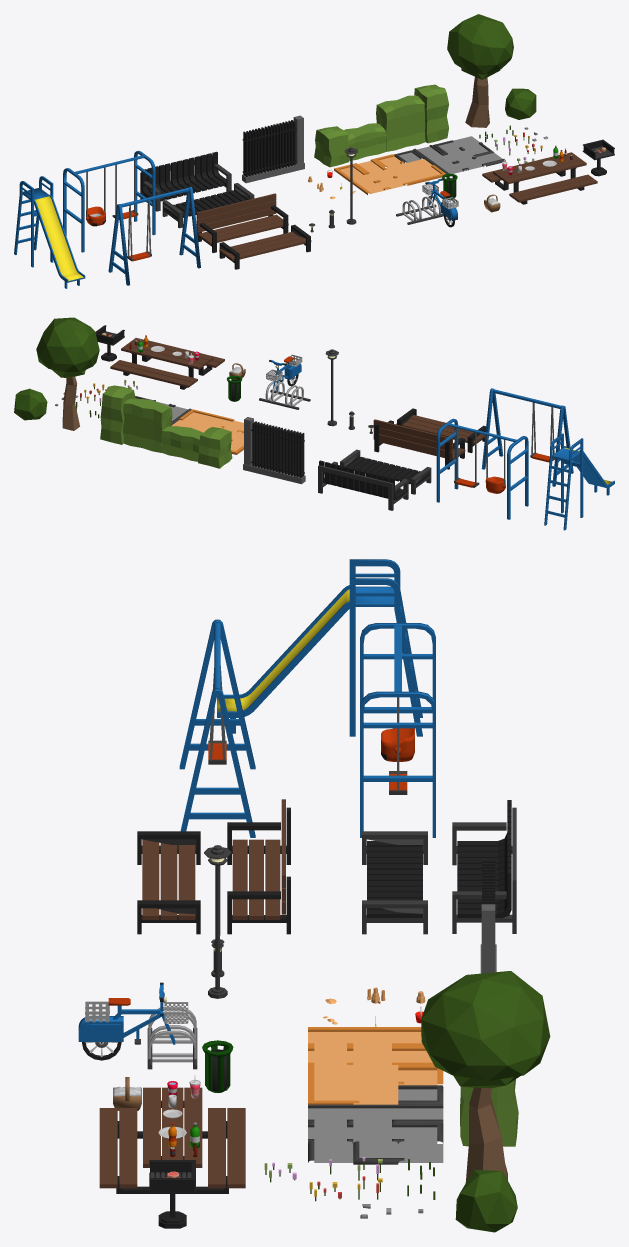
Rendered from ParkChallenge.fbx.
3 renders of one model, top to bottom at view 1: azimuth 30°, elevation 25°; view 2: azimuth 150°, elevation 25°; view 3: azimuth 270°, elevation 25°, orthographic. The views are drawn at different scales.
Parts seen in each view (by area): view 1: Tree, Bench A 1, Slide, Bench B 1, Bench Picnic, Bush Wall, Fence A 1, Swing Body B, Swing Body A, Bench A 2, Bush Wall End, Bench B 2 (+8 smaller); view 2: Tree, Bench Picnic, Slide, Fence A 1, Bench B 1, Bush Wall, Bench A 1, Swing Body A, Swing Body B, Bush Wall End, Bench B 2, Bush Fence End (+11 smaller); view 3: Tree, Bench Picnic, Slide, Bench A 1, Bench B 2, Bench A 2, Bench B 1, Swing Body B, Swing Body A, Bush, BBQ, Bush Wall End (+21 smaller).
Boxes of the visible parts, x1,y1,x2,y2 form: Tree: (447,14,513,127); Bench A 1: (196,193,288,252); Slide: (14,176,85,288); Bench B 1: (140,151,231,211); Bench Picnic: (482,152,597,204); Bush Wall: (376,95,425,151); Fence A 1: (242,123,285,183); Swing Body B: (108,186,200,285); Swing Body A: (63,150,155,252); Bench A 2: (219,224,311,269); Bush Wall End: (414,84,448,143); Bench B 2: (162,183,254,228); Tree: (36,317,99,430); Bench Picnic: (110,338,224,389); Slide: (544,433,614,530); Fence A 1: (262,424,305,484); Bench B 1: (318,460,408,510); Bush Wall: (123,398,172,452); Bench A 1: (373,419,465,469); Swing Body A: (436,418,528,519); Swing Body B: (481,388,573,486); Bush Wall End: (100,385,135,444); Bench B 2: (340,449,431,494); Bush Fence End: (198,427,232,468); Tree: (421,971,550,1182); Bench Picnic: (99,1087,245,1193); Slide: (217,559,422,736); Bench A 1: (227,799,290,934); Bench B 2: (362,831,427,934); Bench A 2: (137,831,200,934); Bench B 1: (452,800,516,933); Swing Body B: (179,619,255,837); Swing Body A: (360,623,435,837); Bush: (455,1169,517,1232); BBQ: (149,1160,195,1228); Bush Wall End: (460,1079,518,1146).
Size of the model in its own units: 2732 by 527 by 1045.
